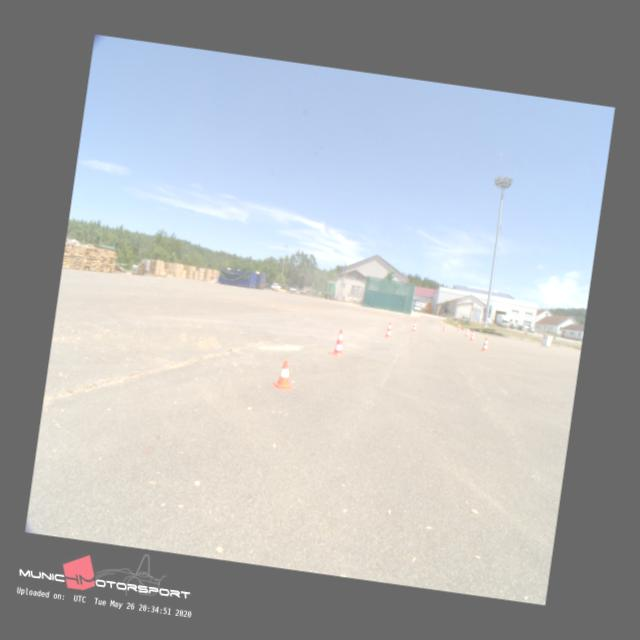large_orange_cone: (332, 328, 347, 357), (384, 322, 394, 338), (482, 336, 489, 351), (412, 319, 418, 332), (470, 330, 476, 341), (464, 327, 470, 337), (443, 322, 448, 331), (457, 323, 462, 331)
orange_cone: (273, 359, 295, 390)
